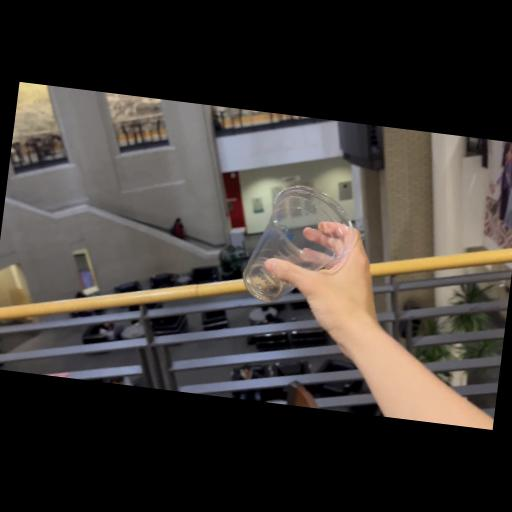lp_plastic_cup: (244, 183, 355, 309)
